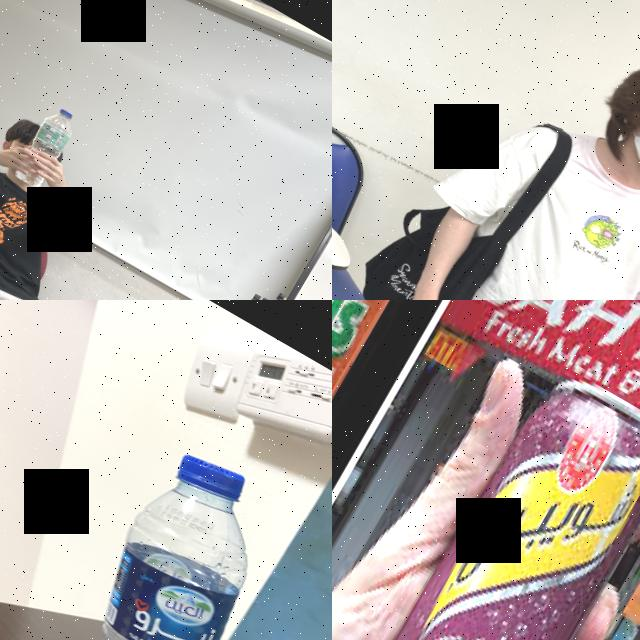bottle: (17, 433, 331, 640), (11, 102, 82, 192)
can: (332, 361, 640, 640), (332, 300, 447, 640)
